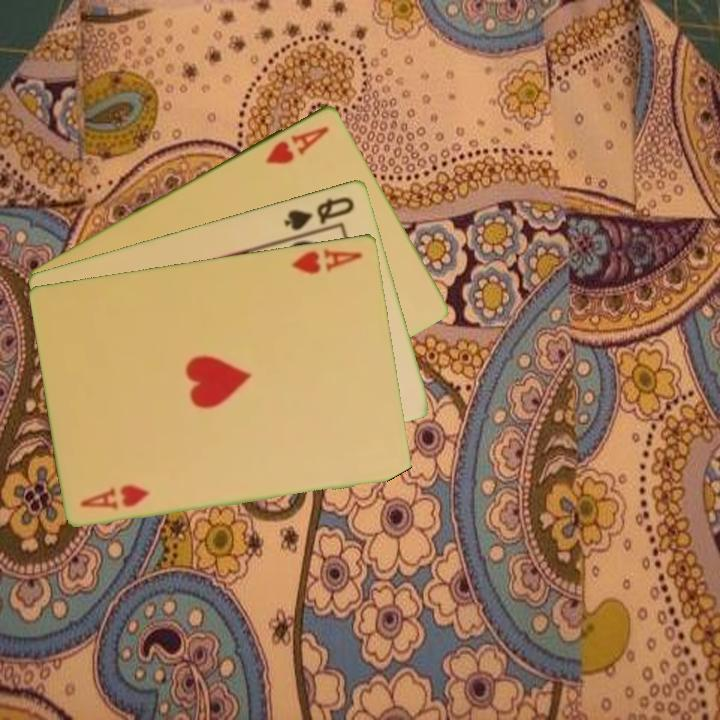Ah: (262, 122, 332, 167), (288, 244, 366, 277), (76, 482, 153, 512)
Qs: (280, 192, 358, 233)
